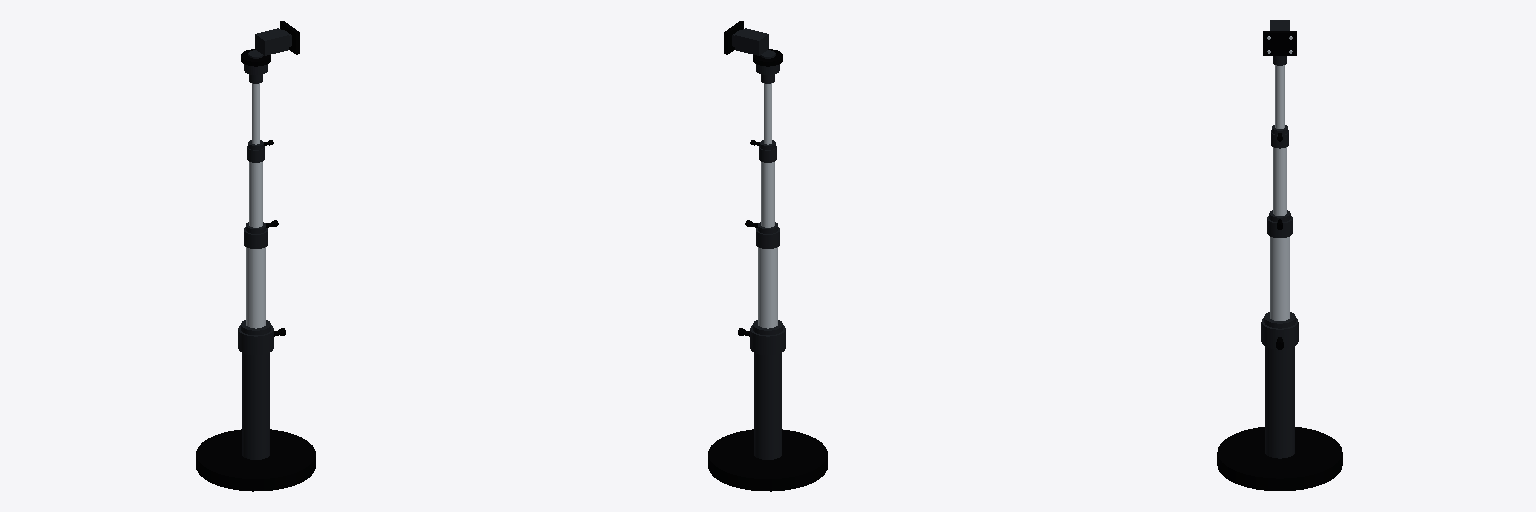
robot.urdf — telescoping_mast_with_pan_head:
<robot name="telescoping_mast_with_pan_head">
  <material name="matte_black">
    <color rgba="0.025 0.027 0.03 1" />
    </material>
  <material name="dark_metal">
    <color rgba="0.13 0.14 0.16 1" />
    </material>
  <material name="brushed_aluminum">
    <color rgba="0.72 0.75 0.78 1" />
    </material>
  <material name="rubber">
    <color rgba="0.015 0.014 0.013 1" />
    </material>
  <link name="base">
    <inertial>
      <origin xyz="0 0 0.32" rpy="0 0 0" />
      <mass value="8" />
      <inertia ixx="0.378867" ixy="0" ixz="0" iyy="0.378867" iyz="0" izz="0.2116" />
      </inertial>
    <visual name="weighted_base">
      <origin xyz="0 0 0.026" rpy="0 0 0" />
      <geometry>
        <cylinder radius="0.23" length="0.052" />
        </geometry>
      <material name="matte_black">
        <color rgba="0.025 0.027 0.03 1" />
        </material>
      </visual>
    <visual name="rubber_foot">
      <origin xyz="0 0 0.005" rpy="0 0 0" />
      <geometry>
        <cylinder radius="0.19" length="0.01" />
        </geometry>
      <material name="rubber">
        <color rgba="0.015 0.014 0.013 1" />
        </material>
      </visual>
    <visual name="base_sleeve">
      <geometry>
        <mesh filename="assets/meshes/base_sleeve.obj" />
        </geometry>
      <material name="dark_metal">
        <color rgba="0.13 0.14 0.16 1" />
        </material>
      </visual>
    <visual name="base_lip">
      <geometry>
        <mesh filename="assets/meshes/base_lip.obj" />
        </geometry>
      <material name="dark_metal">
        <color rgba="0.13 0.14 0.16 1" />
        </material>
      </visual>
    <visual name="base_lock_screw">
      <origin xyz="0.084 0 0.54" rpy="0 1.5708 0" />
      <geometry>
        <cylinder radius="0.01" length="0.046" />
        </geometry>
      <material name="matte_black">
        <color rgba="0.025 0.027 0.03 1" />
        </material>
      </visual>
    <visual name="base_lock_knob">
      <origin xyz="0.116 0 0.54" rpy="0 1.5708 0" />
      <geometry>
        <cylinder radius="0.015" length="0.018" />
        </geometry>
      <material name="matte_black">
        <color rgba="0.025 0.027 0.03 1" />
        </material>
      </visual>
    <collision name="weighted_base">
      <origin xyz="0 0 0.026" rpy="0 0 0" />
      <geometry>
        <cylinder radius="0.23" length="0.052" />
        </geometry>
      </collision>
    <collision name="rubber_foot">
      <origin xyz="0 0 0.005" rpy="0 0 0" />
      <geometry>
        <cylinder radius="0.19" length="0.01" />
        </geometry>
      </collision>
    <collision name="base_sleeve">
      <geometry>
        <mesh filename="assets/meshes/base_sleeve.obj" />
        </geometry>
      </collision>
    <collision name="base_lip">
      <geometry>
        <mesh filename="assets/meshes/base_lip.obj" />
        </geometry>
      </collision>
    <collision name="base_lock_screw">
      <origin xyz="0.084 0 0.54" rpy="0 1.5708 0" />
      <geometry>
        <cylinder radius="0.01" length="0.046" />
        </geometry>
      </collision>
    <collision name="base_lock_knob">
      <origin xyz="0.116 0 0.54" rpy="0 1.5708 0" />
      <geometry>
        <cylinder radius="0.015" length="0.018" />
        </geometry>
      </collision>
    </link>
  <link name="lower_mast">
    <inertial>
      <origin xyz="0 0 -0.02" rpy="0 0 0" />
      <mass value="1.2" />
      <inertia ixx="0.0815292" ixy="0" ixz="0" iyy="0.0815292" iyz="0" izz="0.0010584" />
      </inertial>
    <visual name="lower_tube">
      <geometry>
        <mesh filename="assets/meshes/lower_tube.obj" />
        </geometry>
      <material name="brushed_aluminum">
        <color rgba="0.72 0.75 0.78 1" />
        </material>
      </visual>
    <visual name="lower_seat_flange">
      <geometry>
        <mesh filename="assets/meshes/lower_seat_flange.obj" />
        </geometry>
      <material name="dark_metal">
        <color rgba="0.13 0.14 0.16 1" />
        </material>
      </visual>
    <visual name="lower_lip">
      <geometry>
        <mesh filename="assets/meshes/lower_lip.obj" />
        </geometry>
      <material name="dark_metal">
        <color rgba="0.13 0.14 0.16 1" />
        </material>
      </visual>
    <visual name="lower_lock_screw">
      <origin xyz="0.058 0 0.426" rpy="0 1.5708 0" />
      <geometry>
        <cylinder radius="0.0085" length="0.038" />
        </geometry>
      <material name="matte_black">
        <color rgba="0.025 0.027 0.03 1" />
        </material>
      </visual>
    <visual name="lower_lock_knob">
      <origin xyz="0.085 0 0.426" rpy="0 1.5708 0" />
      <geometry>
        <cylinder radius="0.0125" length="0.016" />
        </geometry>
      <material name="matte_black">
        <color rgba="0.025 0.027 0.03 1" />
        </material>
      </visual>
    <collision name="lower_tube">
      <geometry>
        <mesh filename="assets/meshes/lower_tube.obj" />
        </geometry>
      </collision>
    <collision name="lower_seat_flange">
      <geometry>
        <mesh filename="assets/meshes/lower_seat_flange.obj" />
        </geometry>
      </collision>
    <collision name="lower_lip">
      <geometry>
        <mesh filename="assets/meshes/lower_lip.obj" />
        </geometry>
      </collision>
    <collision name="lower_lock_screw">
      <origin xyz="0.058 0 0.426" rpy="0 1.5708 0" />
      <geometry>
        <cylinder radius="0.0085" length="0.038" />
        </geometry>
      </collision>
    <collision name="lower_lock_knob">
      <origin xyz="0.085 0 0.426" rpy="0 1.5708 0" />
      <geometry>
        <cylinder radius="0.0125" length="0.016" />
        </geometry>
      </collision>
    </link>
  <link name="middle_mast">
    <inertial>
      <origin xyz="0 0 -0.02" rpy="0 0 0" />
      <mass value="0.75" />
      <inertia ixx="0.0362688" ixy="0" ixz="0" iyy="0.0362688" iyz="0" izz="0.0003375" />
      </inertial>
    <visual name="middle_tube">
      <geometry>
        <mesh filename="assets/meshes/middle_tube.obj" />
        </geometry>
      <material name="brushed_aluminum">
        <color rgba="0.72 0.75 0.78 1" />
        </material>
      </visual>
    <visual name="middle_seat_flange">
      <geometry>
        <mesh filename="assets/meshes/middle_seat_flange.obj" />
        </geometry>
      <material name="dark_metal">
        <color rgba="0.13 0.14 0.16 1" />
        </material>
      </visual>
    <visual name="middle_lip">
      <geometry>
        <mesh filename="assets/meshes/middle_lip.obj" />
        </geometry>
      <material name="dark_metal">
        <color rgba="0.13 0.14 0.16 1" />
        </material>
      </visual>
    <visual name="middle_lock_screw">
      <origin xyz="0.043 0 0.353" rpy="0 1.5708 0" />
      <geometry>
        <cylinder radius="0.0068" length="0.03" />
        </geometry>
      <material name="matte_black">
        <color rgba="0.025 0.027 0.03 1" />
        </material>
      </visual>
    <visual name="middle_lock_knob">
      <origin xyz="0.065 0 0.353" rpy="0 1.5708 0" />
      <geometry>
        <cylinder radius="0.01" length="0.014" />
        </geometry>
      <material name="matte_black">
        <color rgba="0.025 0.027 0.03 1" />
        </material>
      </visual>
    <collision name="middle_tube">
      <geometry>
        <mesh filename="assets/meshes/middle_tube.obj" />
        </geometry>
      </collision>
    <collision name="middle_seat_flange">
      <geometry>
        <mesh filename="assets/meshes/middle_seat_flange.obj" />
        </geometry>
      </collision>
    <collision name="middle_lip">
      <geometry>
        <mesh filename="assets/meshes/middle_lip.obj" />
        </geometry>
      </collision>
    <collision name="middle_lock_screw">
      <origin xyz="0.043 0 0.353" rpy="0 1.5708 0" />
      <geometry>
        <cylinder radius="0.0068" length="0.03" />
        </geometry>
      </collision>
    <collision name="middle_lock_knob">
      <origin xyz="0.065 0 0.353" rpy="0 1.5708 0" />
      <geometry>
        <cylinder radius="0.01" length="0.014" />
        </geometry>
      </collision>
    </link>
  <link name="upper_mast">
    <inertial>
      <mass value="0.4" />
      <inertia ixx="0.0128533" ixy="0" ixz="0" iyy="0.0128533" iyz="0" izz="8e-05" />
      </inertial>
    <visual name="upper_tube">
      <geometry>
        <mesh filename="assets/meshes/upper_tube.obj" />
        </geometry>
      <material name="brushed_aluminum">
        <color rgba="0.72 0.75 0.78 1" />
        </material>
      </visual>
    <visual name="upper_seat_flange">
      <geometry>
        <mesh filename="assets/meshes/upper_seat_flange.obj" />
        </geometry>
      <material name="dark_metal">
        <color rgba="0.13 0.14 0.16 1" />
        </material>
      </visual>
    <visual name="pan_mount_collar">
      <geometry>
        <mesh filename="assets/meshes/pan_mount_collar.obj" />
        </geometry>
      <material name="dark_metal">
        <color rgba="0.13 0.14 0.16 1" />
        </material>
      </visual>
    <collision name="upper_tube">
      <geometry>
        <mesh filename="assets/meshes/upper_tube.obj" />
        </geometry>
      </collision>
    <collision name="upper_seat_flange">
      <geometry>
        <mesh filename="assets/meshes/upper_seat_flange.obj" />
        </geometry>
      </collision>
    <collision name="pan_mount_collar">
      <geometry>
        <mesh filename="assets/meshes/pan_mount_collar.obj" />
        </geometry>
      </collision>
    </link>
  <link name="pan_head">
    <inertial>
      <origin xyz="0.075 0 0.08" rpy="0 0 0" />
      <mass value="0.65" />
      <inertia ixx="0.00230208" ixy="0" ixz="0" iyy="0.00314167" iyz="0" izz="0.00267042" />
      </inertial>
    <visual name="pan_bearing">
      <origin xyz="0 0 0.021" rpy="0 0 0" />
      <geometry>
        <cylinder radius="0.046" length="0.042" />
        </geometry>
      <material name="dark_metal">
        <color rgba="0.13 0.14 0.16 1" />
        </material>
      </visual>
    <visual name="pan_turntable">
      <origin xyz="0 0 0.052" rpy="0 0 0" />
      <geometry>
        <cylinder radius="0.058" length="0.02" />
        </geometry>
      <material name="matte_black">
        <color rgba="0.025 0.027 0.03 1" />
        </material>
      </visual>
    <visual name="head_stem">
      <origin xyz="0 0 0.066" rpy="0 0 0" />
      <geometry>
        <cylinder radius="0.03" length="0.008" />
        </geometry>
      <material name="dark_metal">
        <color rgba="0.13 0.14 0.16 1" />
        </material>
      </visual>
    <visual name="head_block">
      <origin xyz="0.07 0 0.102" rpy="0 0 0" />
      <geometry>
        <box size="0.105 0.074 0.064" />
        </geometry>
      <material name="dark_metal">
        <color rgba="0.13 0.14 0.16 1" />
        </material>
      </visual>
    <visual name="faceplate_bridge">
      <origin xyz="0.126 0 0.102" rpy="0 0 0" />
      <geometry>
        <box size="0.034 0.054 0.048" />
        </geometry>
      <material name="dark_metal">
        <color rgba="0.13 0.14 0.16 1" />
        </material>
      </visual>
    <visual name="faceplate">
      <origin xyz="0.15 0 0.102" rpy="0 0 0" />
      <geometry>
        <box size="0.016 0.124 0.092" />
        </geometry>
      <material name="matte_black">
        <color rgba="0.025 0.027 0.03 1" />
        </material>
      </visual>
    <visual name="face_screw_0">
      <origin xyz="0.16 -0.04 0.074" rpy="0 1.5708 0" />
      <geometry>
        <cylinder radius="0.006" length="0.008" />
        </geometry>
      <material name="brushed_aluminum">
        <color rgba="0.72 0.75 0.78 1" />
        </material>
      </visual>
    <visual name="face_screw_1">
      <origin xyz="0.16 0.04 0.074" rpy="0 1.5708 0" />
      <geometry>
        <cylinder radius="0.006" length="0.008" />
        </geometry>
      <material name="brushed_aluminum">
        <color rgba="0.72 0.75 0.78 1" />
        </material>
      </visual>
    <visual name="face_screw_2">
      <origin xyz="0.16 -0.04 0.13" rpy="0 1.5708 0" />
      <geometry>
        <cylinder radius="0.006" length="0.008" />
        </geometry>
      <material name="brushed_aluminum">
        <color rgba="0.72 0.75 0.78 1" />
        </material>
      </visual>
    <visual name="face_screw_3">
      <origin xyz="0.16 0.04 0.13" rpy="0 1.5708 0" />
      <geometry>
        <cylinder radius="0.006" length="0.008" />
        </geometry>
      <material name="brushed_aluminum">
        <color rgba="0.72 0.75 0.78 1" />
        </material>
      </visual>
    <collision name="pan_bearing">
      <origin xyz="0 0 0.021" rpy="0 0 0" />
      <geometry>
        <cylinder radius="0.046" length="0.042" />
        </geometry>
      </collision>
    <collision name="pan_turntable">
      <origin xyz="0 0 0.052" rpy="0 0 0" />
      <geometry>
        <cylinder radius="0.058" length="0.02" />
        </geometry>
      </collision>
    <collision name="head_stem">
      <origin xyz="0 0 0.066" rpy="0 0 0" />
      <geometry>
        <cylinder radius="0.03" length="0.008" />
        </geometry>
      </collision>
    <collision name="head_block">
      <origin xyz="0.07 0 0.102" rpy="0 0 0" />
      <geometry>
        <box size="0.105 0.074 0.064" />
        </geometry>
      </collision>
    <collision name="faceplate_bridge">
      <origin xyz="0.126 0 0.102" rpy="0 0 0" />
      <geometry>
        <box size="0.034 0.054 0.048" />
        </geometry>
      </collision>
    <collision name="faceplate">
      <origin xyz="0.15 0 0.102" rpy="0 0 0" />
      <geometry>
        <box size="0.016 0.124 0.092" />
        </geometry>
      </collision>
    <collision name="face_screw_0">
      <origin xyz="0.16 -0.04 0.074" rpy="0 1.5708 0" />
      <geometry>
        <cylinder radius="0.006" length="0.008" />
        </geometry>
      </collision>
    <collision name="face_screw_1">
      <origin xyz="0.16 0.04 0.074" rpy="0 1.5708 0" />
      <geometry>
        <cylinder radius="0.006" length="0.008" />
        </geometry>
      </collision>
    <collision name="face_screw_2">
      <origin xyz="0.16 -0.04 0.13" rpy="0 1.5708 0" />
      <geometry>
        <cylinder radius="0.006" length="0.008" />
        </geometry>
      </collision>
    <collision name="face_screw_3">
      <origin xyz="0.16 0.04 0.13" rpy="0 1.5708 0" />
      <geometry>
        <cylinder radius="0.006" length="0.008" />
        </geometry>
      </collision>
    </link>
  <joint name="base_to_lower" type="prismatic">
    <origin xyz="0 0 0.58" rpy="0 0 0" />
    <parent link="base" />
    <child link="lower_mast" />
    <axis xyz="0 0 1" />
    <limit effort="130" velocity="0.22" lower="0" upper="0.36" />
    </joint>
  <joint name="lower_to_middle" type="prismatic">
    <origin xyz="0 0 0.42" rpy="0 0 0" />
    <parent link="lower_mast" />
    <child link="middle_mast" />
    <axis xyz="0 0 1" />
    <limit effort="95" velocity="0.2" lower="0" upper="0.3" />
    </joint>
  <joint name="middle_to_upper" type="prismatic">
    <origin xyz="0 0 0.35" rpy="0 0 0" />
    <parent link="middle_mast" />
    <child link="upper_mast" />
    <axis xyz="0 0 1" />
    <limit effort="65" velocity="0.18" lower="0" upper="0.23" />
    </joint>
  <joint name="upper_to_pan" type="revolute">
    <origin xyz="0 0 0.325" rpy="0 0 0" />
    <parent link="upper_mast" />
    <child link="pan_head" />
    <axis xyz="0 0 1" />
    <limit effort="20" velocity="1.2" lower="-3.14159" upper="3.14159" />
    </joint>
  </robot>

--- Facts derived from the render (not from the file) ---
The picture shows the robot from 3 angles, left to right: view 1: azimuth 30°, elevation 25°; view 2: azimuth 150°, elevation 25°; view 3: azimuth 270°, elevation 25°; orthographic projection.
Model telescoping_mast_with_pan_head with 5 links and 4 joints (1 revolute, 3 prismatic), rooted at base, posed every joint at zero.
Visible links, largest first — view 1: base, lower_mast, pan_head, middle_mast, upper_mast; view 2: base, lower_mast, pan_head, middle_mast, upper_mast; view 3: base, lower_mast, middle_mast, pan_head, upper_mast.
Boxes of the visible links, box(x1,y1,x2,y2) form: base: box(196, 325, 315, 491); lower_mast: box(241, 220, 278, 334); pan_head: box(241, 21, 299, 74); middle_mast: box(246, 140, 273, 233); upper_mast: box(248, 74, 263, 149); base: box(708, 325, 827, 491); lower_mast: box(745, 220, 782, 334); pan_head: box(724, 21, 782, 74); middle_mast: box(750, 140, 777, 233); upper_mast: box(760, 74, 775, 149); base: box(1217, 318, 1342, 490); lower_mast: box(1264, 216, 1295, 328); middle_mast: box(1269, 130, 1290, 222); pan_head: box(1263, 20, 1296, 56); upper_mast: box(1272, 56, 1287, 134).
Size in the robot's own frame: 0.46 by 0.46 by 1.82 metres.
11 mesh visuals loaded from 11 distinct referenced files (11 OBJ).
